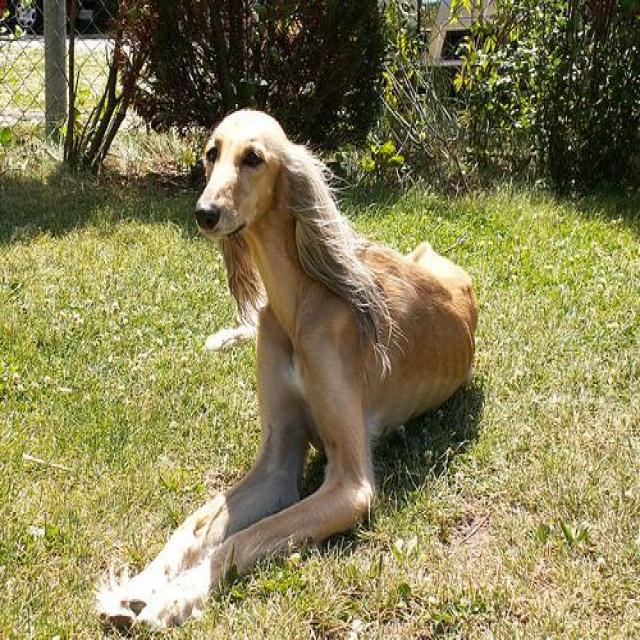saluki: (92, 106, 481, 635)
